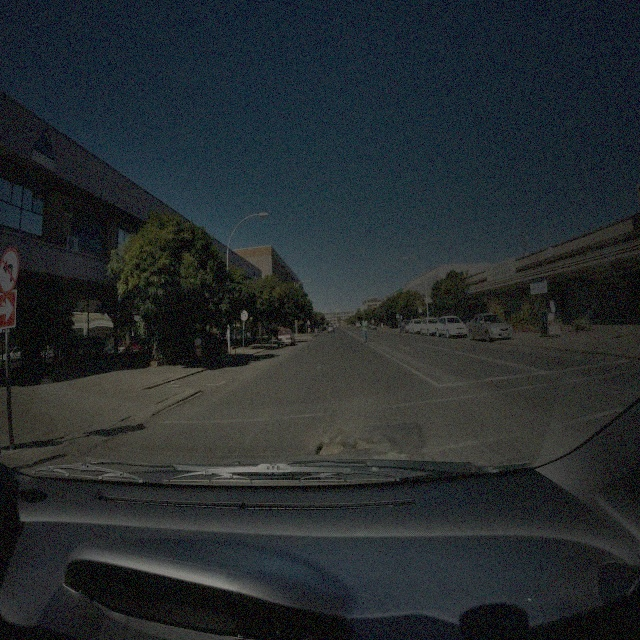pothole: (314, 439, 344, 457), (354, 438, 378, 451)
